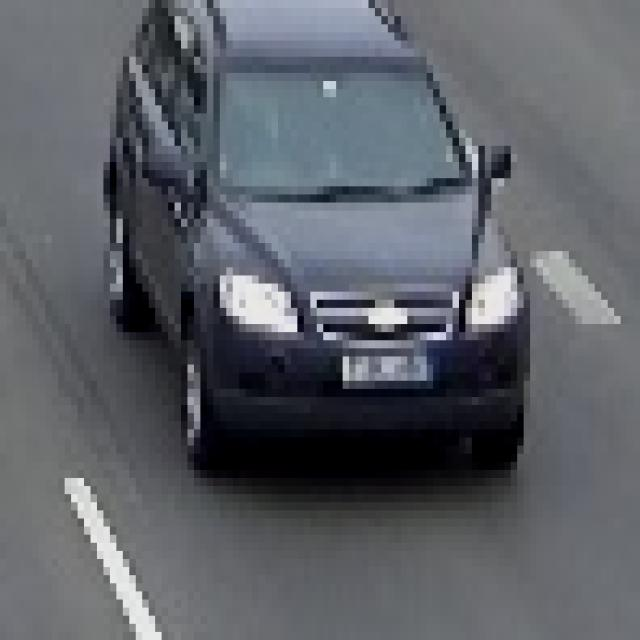SUV: (121, 0, 511, 451)
